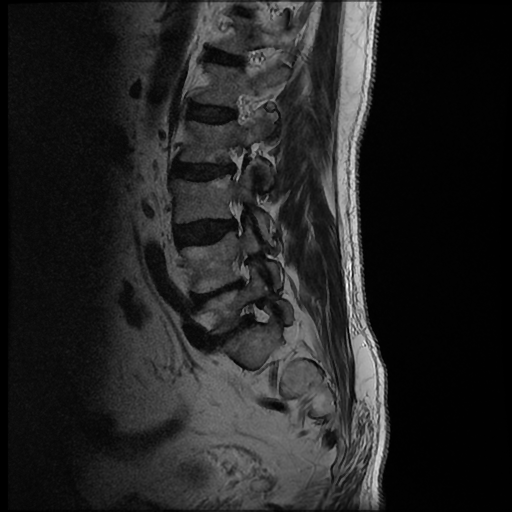LFS0: (211, 136, 260, 189), (234, 296, 282, 338)
